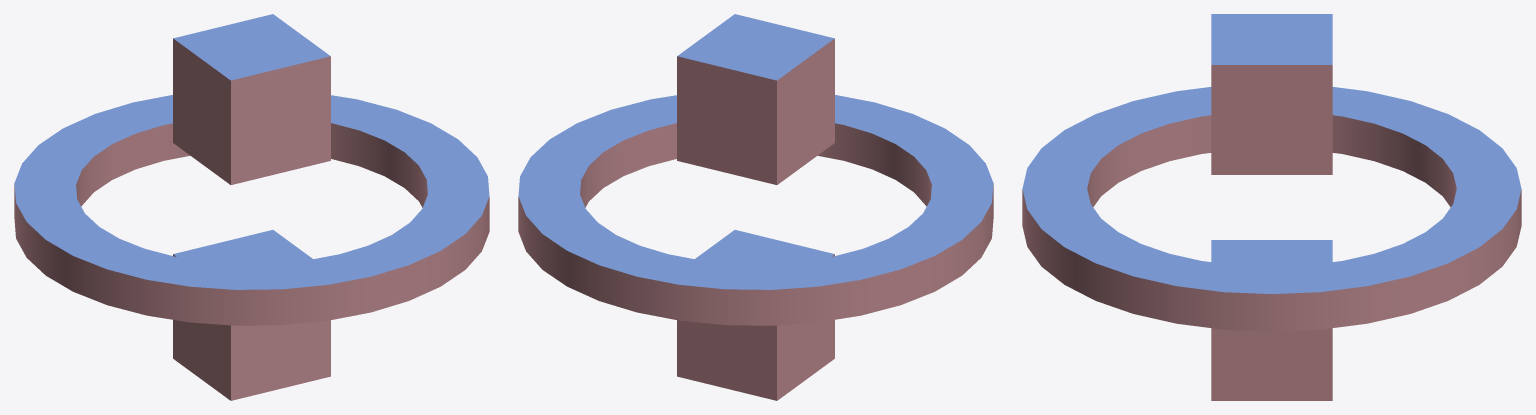
The picture shows the model from 3 angles, left to right: view 1: azimuth 30°, elevation 25°; view 2: azimuth 150°, elevation 25°; view 3: azimuth 270°, elevation 25°; orthographic projection. The views are drawn at different scales.
Visible parts, largest first — view 1: Cylinder; view 2: Cylinder; view 3: Cylinder.
Boxes of the visible parts, box(x1,y1,x2,y2) form: Cylinder: box(14, 14, 489, 400); Cylinder: box(518, 14, 993, 400); Cylinder: box(1022, 14, 1521, 400).
Bounding box in the file's own units: 4 × 2.97 × 4.
